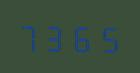five: (93, 20, 117, 53)
seven: (18, 19, 42, 52)
six: (68, 19, 92, 53)
three: (43, 19, 67, 52)
